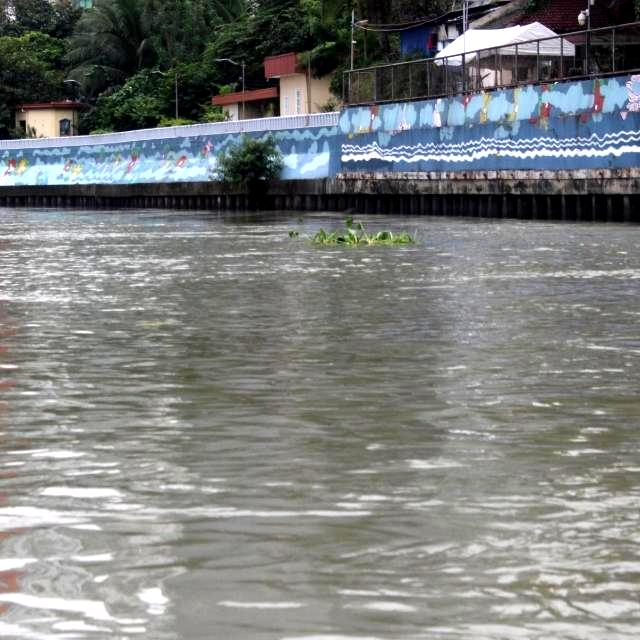water-hyacinth: (299, 219, 414, 251)
